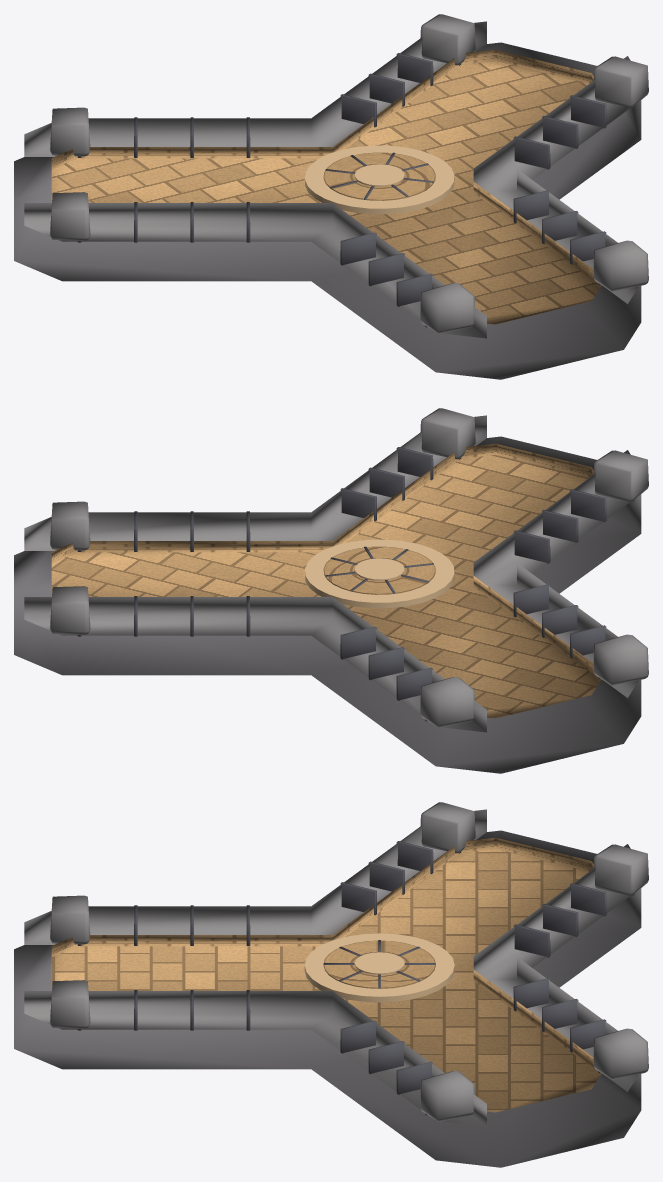
The model's file is OBJ16_branch_path.glb.
3 renders of one model, top to bottom at view 1: azimuth 30°, elevation 25°; view 2: azimuth 150°, elevation 25°; view 3: azimuth 270°, elevation 25°, orthographic.
Visible parts, largest first — view 1: PathSurface, BaseSlab, Curb_0, CurbJoints, Curb_2, Curb_1, MedallionOuter, MedallionRing, EndBlock_0_-1, EndBlock_2_1, EndBlock_0_1, EndBlock_2_-1 (+3 smaller); view 2: PathSurface, BaseSlab, Curb_2, CurbJoints, Curb_1, Curb_0, MedallionOuter, MedallionRing, EndBlock_1_-1, EndBlock_0_1, EndBlock_1_1, EndBlock_0_-1 (+3 smaller); view 3: PathSurface, BaseSlab, Curb_1, CurbJoints, Curb_0, Curb_2, MedallionOuter, MedallionRing, EndBlock_2_-1, EndBlock_1_1, EndBlock_2_1, EndBlock_1_-1 (+3 smaller).
Boxes of the visible parts, bbox=[...] form: PathSurface: bbox=[51, 49, 601, 324]; BaseSlab: bbox=[14, 42, 641, 379]; Curb_0: bbox=[24, 203, 486, 338]; CurbJoints: bbox=[77, 53, 634, 327]; Curb_2: bbox=[24, 21, 486, 156]; Curb_1: bbox=[473, 56, 638, 303]; MedallionOuter: bbox=[305, 145, 454, 214]; MedallionRing: bbox=[323, 152, 435, 200]; EndBlock_0_-1: bbox=[593, 240, 648, 291]; EndBlock_2_1: bbox=[593, 56, 648, 107]; EndBlock_0_1: bbox=[420, 283, 474, 333]; EndBlock_2_-1: bbox=[420, 14, 475, 65]; PathSurface: bbox=[51, 443, 601, 718]; BaseSlab: bbox=[14, 436, 641, 773]; Curb_2: bbox=[24, 597, 486, 732]; CurbJoints: bbox=[77, 447, 634, 721]; Curb_1: bbox=[24, 415, 486, 550]; Curb_0: bbox=[473, 450, 638, 697]; MedallionOuter: bbox=[305, 539, 454, 608]; MedallionRing: bbox=[323, 546, 435, 594]; EndBlock_1_-1: bbox=[593, 634, 648, 685]; EndBlock_0_1: bbox=[593, 450, 648, 501]; EndBlock_1_1: bbox=[420, 677, 474, 727]; EndBlock_0_-1: bbox=[420, 408, 475, 459]; PathSurface: bbox=[51, 837, 601, 1112]; BaseSlab: bbox=[14, 830, 641, 1167]; Curb_1: bbox=[24, 991, 486, 1126]; CurbJoints: bbox=[77, 841, 634, 1115]; Curb_0: bbox=[24, 809, 486, 944]; Curb_2: bbox=[473, 844, 638, 1091]; MedallionOuter: bbox=[304, 933, 454, 1002]; MedallionRing: bbox=[323, 940, 435, 988]; EndBlock_2_-1: bbox=[593, 1028, 648, 1079]; EndBlock_1_1: bbox=[593, 844, 648, 895]; EndBlock_2_1: bbox=[420, 1071, 474, 1121]; EndBlock_1_-1: bbox=[420, 802, 475, 853].
Bounding box in the file's own units: 2.25 × 0.26 × 2.03.
5 materials, 1 textured.
